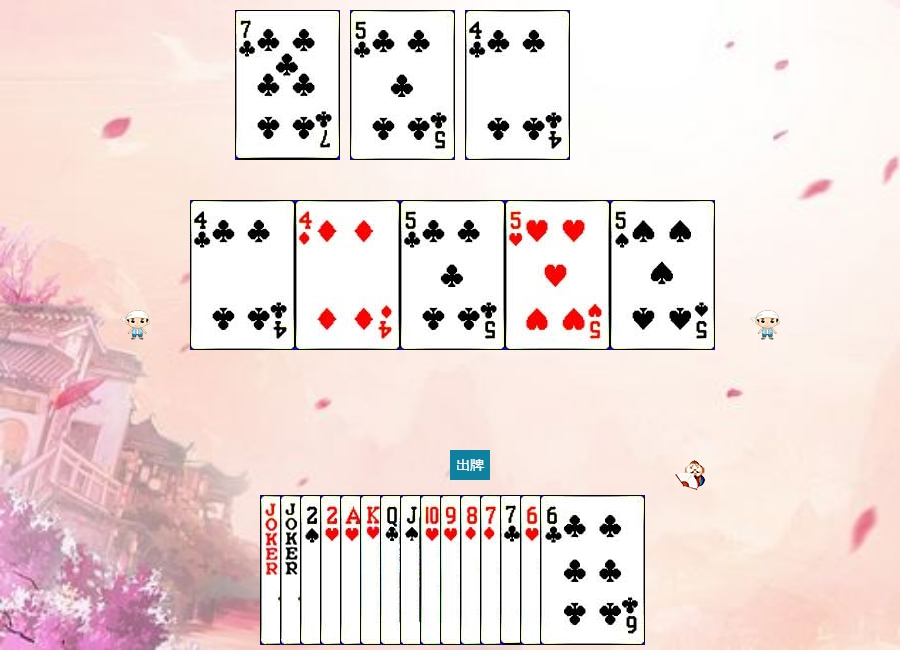10~3: (420, 495, 525, 645)
11~4: (400, 495, 505, 645)
12~2: (380, 495, 485, 645)
13~3: (360, 495, 465, 645)
14~3: (340, 495, 445, 645)
15~3: (320, 495, 425, 645)
15~4: (300, 495, 405, 645)
17~3: (280, 495, 385, 645)
18~4: (260, 495, 365, 645)
4~1: (295, 200, 400, 350)
4~2: (465, 10, 570, 160), (190, 200, 295, 350)
5~2: (350, 10, 455, 160), (400, 200, 505, 350)
5~3: (505, 200, 610, 350)
5~4: (610, 200, 715, 350)
6~2: (540, 495, 645, 645)
6~3: (520, 495, 625, 645)
7~1: (480, 495, 585, 645)
7~2: (235, 10, 340, 160), (500, 495, 605, 645)
8~1: (460, 495, 565, 645)
9~3: (440, 495, 545, 645)
